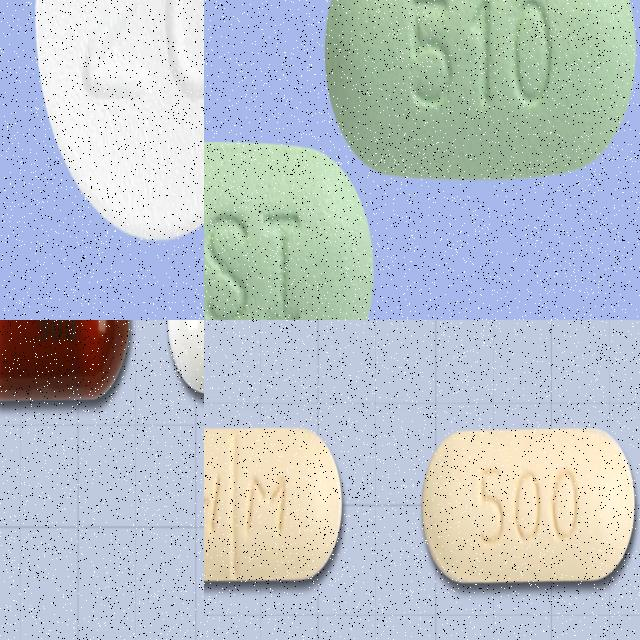Duricef Cap: (0, 320, 130, 403)
Genvoya: (323, 0, 636, 179), (204, 140, 375, 320)
Levotwo: (34, 0, 204, 240)
Levoxacin: (422, 430, 636, 586), (204, 427, 342, 581)
